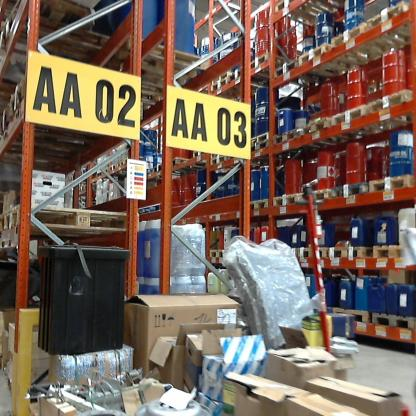pallet: (11, 201, 129, 235), (131, 39, 206, 88), (295, 40, 349, 80), (331, 30, 384, 67), (330, 104, 383, 136), (367, 86, 411, 122), (250, 140, 270, 213), (371, 13, 408, 51), (334, 181, 369, 211), (300, 184, 331, 216), (368, 175, 416, 193), (270, 189, 301, 214), (372, 313, 414, 331), (331, 244, 372, 262), (302, 243, 329, 266), (333, 308, 370, 324), (9, 80, 27, 111), (300, 115, 329, 133), (274, 126, 299, 145), (374, 247, 404, 262), (276, 57, 297, 78), (252, 53, 273, 73), (210, 69, 234, 80), (251, 131, 271, 140), (209, 78, 227, 88), (1, 213, 11, 230), (211, 248, 224, 258)
